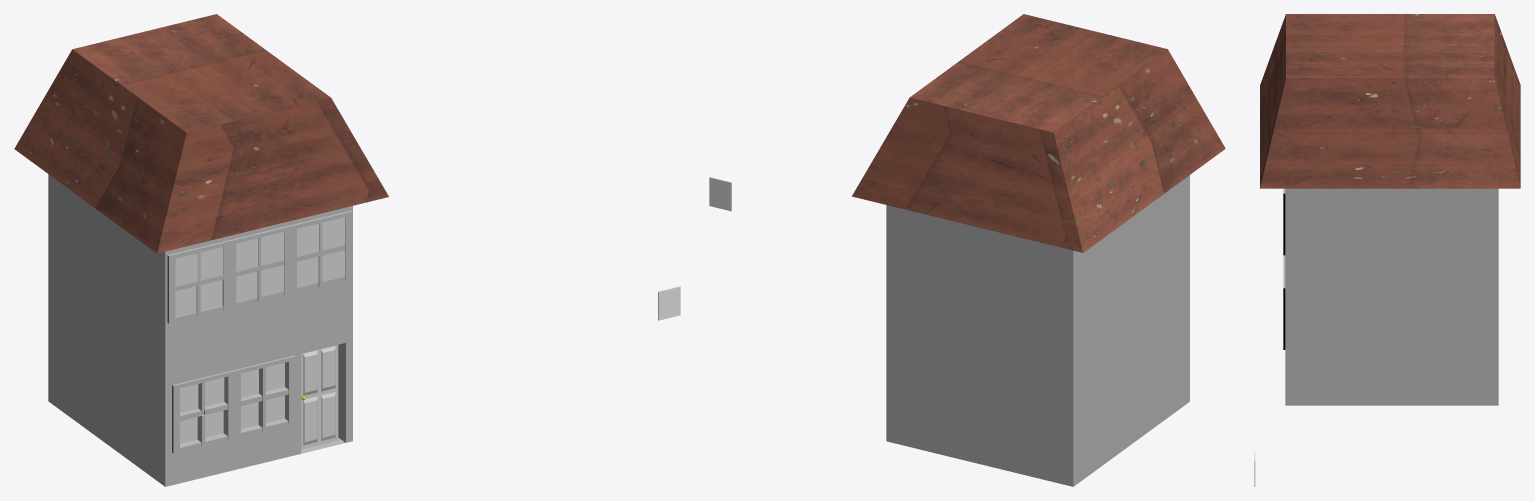
The model's file is building.fbx.
3 renders of one model, left to right at view 1: azimuth 30°, elevation 25°; view 2: azimuth 150°, elevation 25°; view 3: azimuth 270°, elevation 25°, orthographic. The views are drawn at different scales.
Visible parts, largest first — view 1: Cube.005; view 2: Cube.005, glass; view 3: Cube.005.
Boxes of the visible parts, <box> form: Cube.005: <box>14,14,388,486</box>; Cube.005: <box>852,14,1225,486</box>; glass: <box>709,177,731,211</box>; Cube.005: <box>1260,14,1520,405</box>.
Size of the model in its own units: 16630 by 10653 by 8082.
